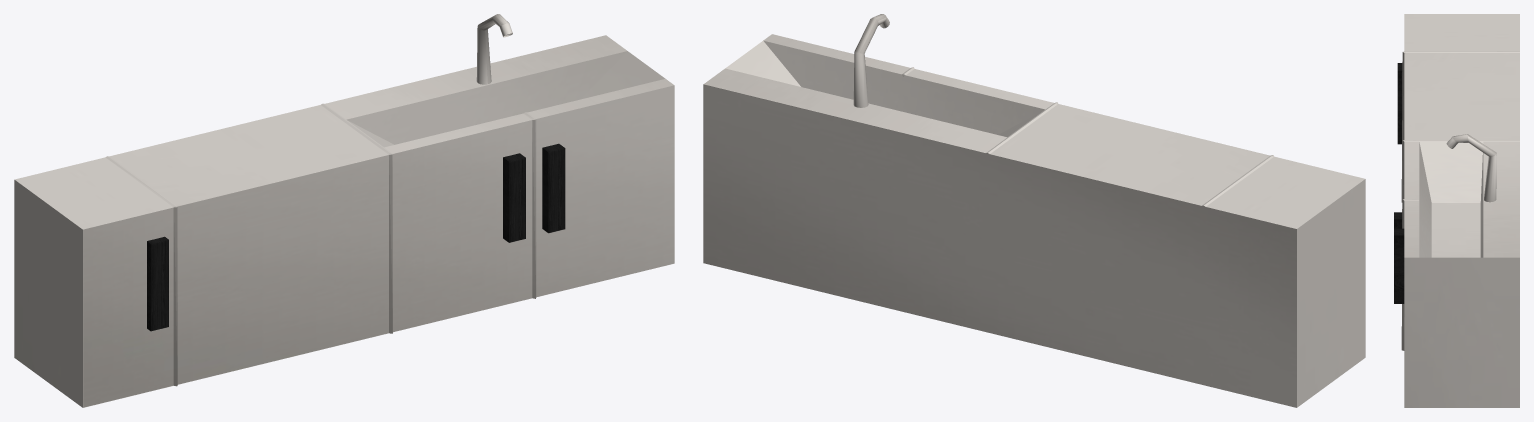
Rendered from kitchen_counter.glb.
3 views of the same model, side by side, from view 1: azimuth 30°, elevation 25°; view 2: azimuth 150°, elevation 25°; view 3: azimuth 270°, elevation 25° (orthographic). The views are drawn at different scales.
Parts seen in each view (by area): view 1: Box002, Box011, Box007, Box010, Cylinder001; view 2: Box002, Cylinder001; view 3: Box002, Cylinder001, Box011, Box007, Box010.
Boxes of the visible parts, x1,y1,x2,y2 form: Box002: (14,35,674,407); Box011: (542,143,565,233); Box007: (147,236,168,331); Box010: (503,153,525,242); Cylinder001: (476,14,512,84); Box002: (703,34,1365,407); Cylinder001: (853,14,889,107); Box002: (1401,14,1519,407); Cylinder001: (1446,134,1496,202); Box011: (1394,228,1404,303); Box007: (1397,63,1402,144); Box010: (1394,212,1402,228).
Bounding box in the file's own units: 1267 × 524 × 277.
Materials: 2 (2 with a texture image).
